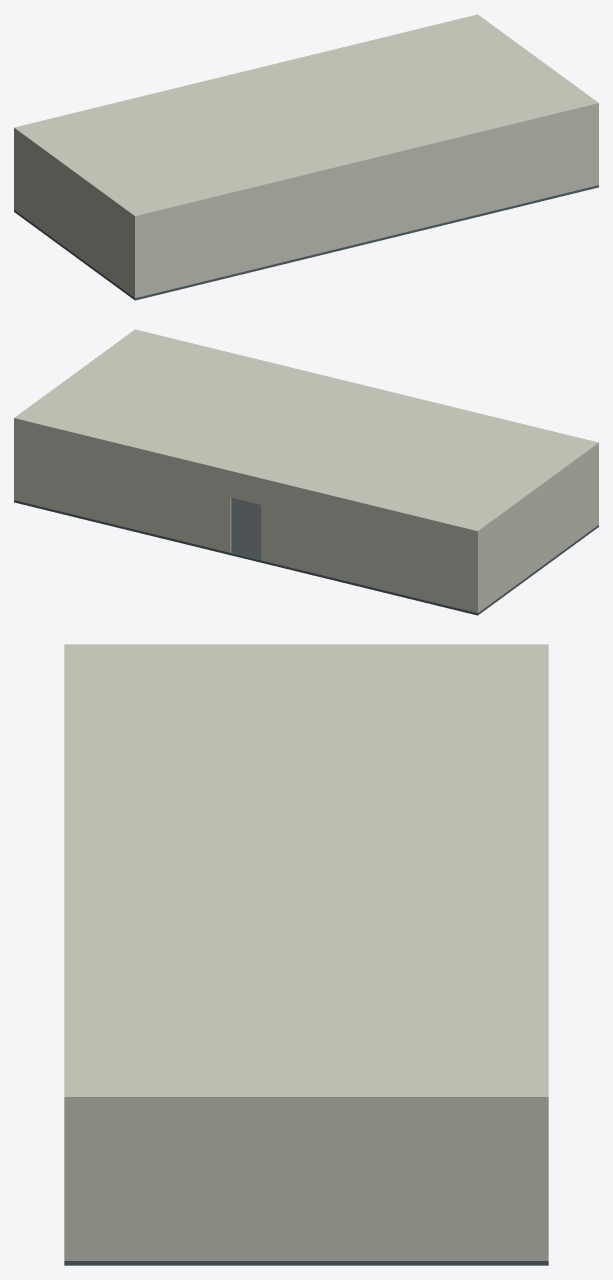
File: room1_baked_uv2_r3.glb
The picture shows the model from 3 angles, top to bottom: view 1: azimuth 30°, elevation 25°; view 2: azimuth 150°, elevation 25°; view 3: azimuth 270°, elevation 25°; orthographic projection. The views are drawn at different scales.
Parts seen in each view (by area): view 1: Bake_Shell_Roof_hidden_for_cutaway, Bake_Shell_Wall_front, Bake_Shell_Wall_left, Bake_Shell_Floor_continuous_no_tile_seams; view 2: Bake_Shell_Roof_hidden_for_cutaway, Bake_Shell_Wall_rear_left, Bake_Shell_Wall_rear_right, Bake_Shell_Wall_left, Bake_Shell_Floor_continuous_no_tile_seams, Bake_Shell_MAIN_DOOR_PLACEHOLDER_NOT_APPROVED, Bake_Shell_Wall_rear_door_header; view 3: Bake_Shell_Roof_hidden_for_cutaway, Bake_Shell_Wall_right, Bake_Shell_Floor_continuous_no_tile_seams, Bake_Shell_Wall_rear_right, Bake_Shell_Wall_front.
Boxes of the visible parts, bbox=[...] form: Bake_Shell_Roof_hidden_for_cutaway: bbox=[14, 14, 598, 219]; Bake_Shell_Wall_front: bbox=[132, 106, 598, 298]; Bake_Shell_Wall_left: bbox=[16, 133, 132, 295]; Bake_Shell_Floor_continuous_no_tile_seams: bbox=[14, 185, 598, 300]; Bake_Shell_Roof_hidden_for_cutaway: bbox=[14, 329, 598, 534]; Bake_Shell_Wall_rear_left: bbox=[261, 482, 480, 613]; Bake_Shell_Wall_rear_right: bbox=[14, 421, 231, 552]; Bake_Shell_Wall_left: bbox=[480, 448, 596, 610]; Bake_Shell_Floor_continuous_no_tile_seams: bbox=[14, 500, 598, 615]; Bake_Shell_MAIN_DOOR_PLACEHOLDER_NOT_APPROVED: bbox=[231, 497, 261, 559]; Bake_Shell_Wall_rear_door_header: bbox=[230, 474, 261, 504]; Bake_Shell_Roof_hidden_for_cutaway: bbox=[64, 644, 548, 1103]; Bake_Shell_Wall_right: bbox=[74, 1104, 538, 1260]; Bake_Shell_Floor_continuous_no_tile_seams: bbox=[64, 1261, 548, 1265]; Bake_Shell_Wall_rear_right: bbox=[538, 1104, 548, 1260]; Bake_Shell_Wall_front: bbox=[64, 1104, 74, 1260].
Size of the model in its own units: 21 by 3.65 by 9.5.
148 materials, 147 textured.
